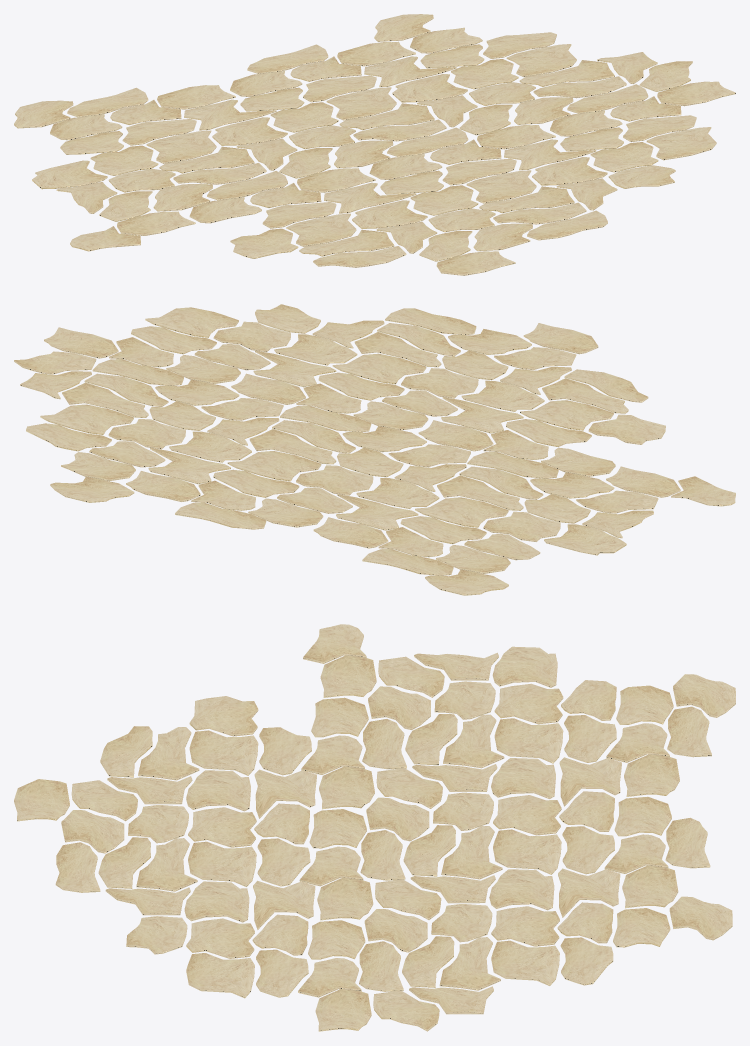
Rendered from SueloPiedraZona2_V3.fbx.
The picture shows the model from 3 angles, top to bottom: view 1: azimuth 30°, elevation 25°; view 2: azimuth 150°, elevation 25°; view 3: azimuth 270°, elevation 25°; orthographic projection. The views are drawn at different scales.
Visible parts, largest first — view 1: Cube_025; view 2: Cube_025; view 3: Cube_025.
Part boxes in pixels (x1,y1,x2,y2): Cube_025: (14, 14, 735, 275); Cube_025: (14, 304, 735, 595); Cube_025: (14, 624, 735, 1031).
Size of the model in its own units: 7942 by 17.83 by 5973.
